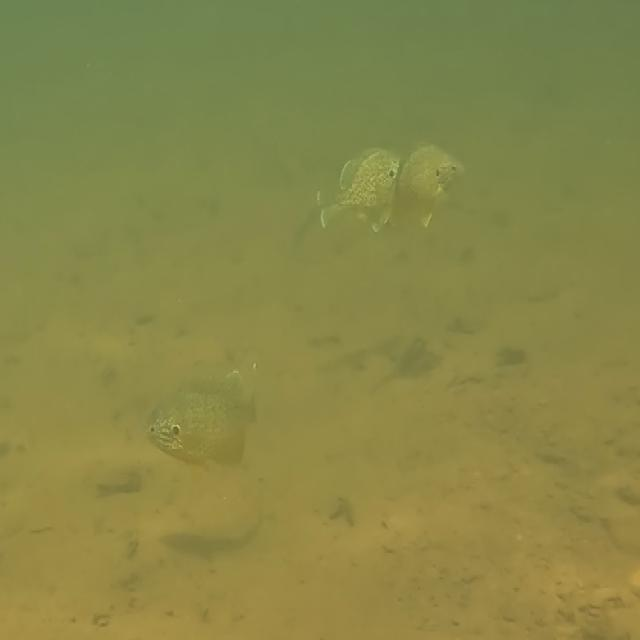Gunes Levregi: (144, 361, 268, 475)
